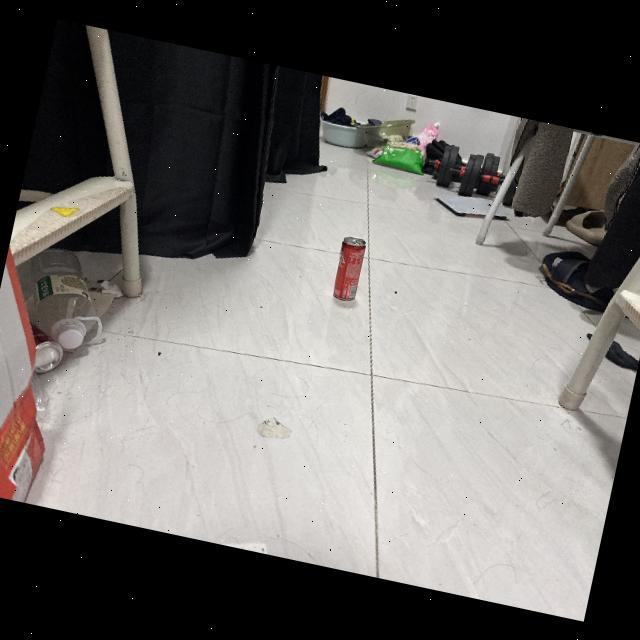Cola: (326, 230, 371, 308)
